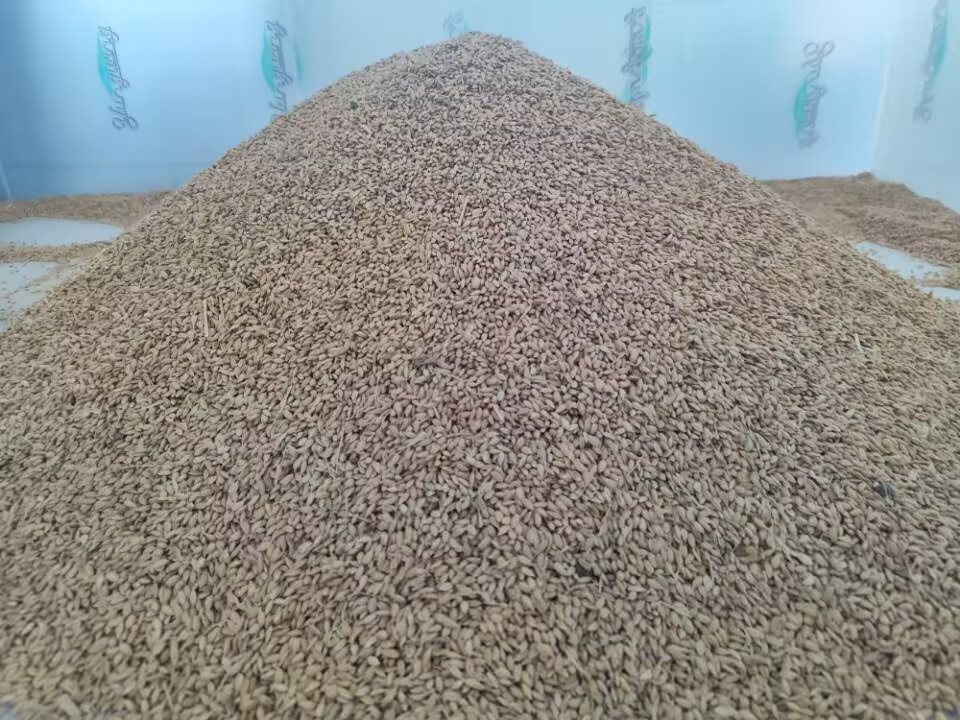Grain: (52, 26, 930, 678)
